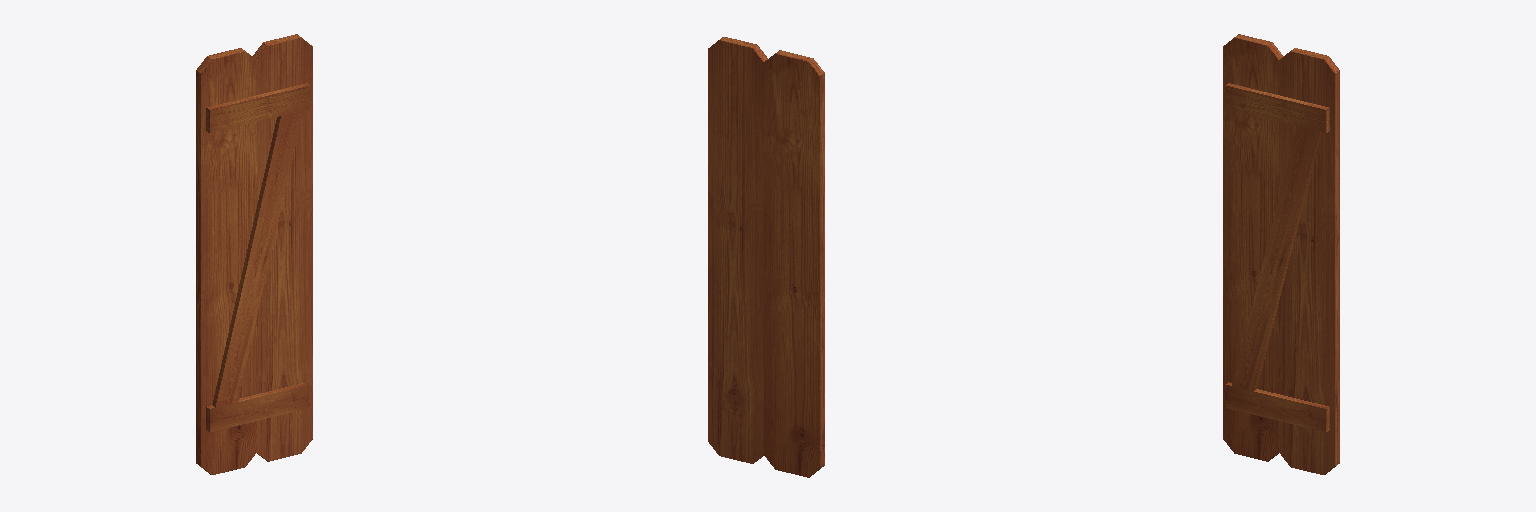
3 renders of one model, left to right at view 1: azimuth 30°, elevation 25°; view 2: azimuth 150°, elevation 25°; view 3: azimuth 330°, elevation 25°, orthographic.
Parts seen in each view (by area): view 1: shutter001, shutter, shutter004, shutter003, shutter002; view 2: shutter001, shutter; view 3: shutter, shutter001, shutter004, shutter003, shutter002.
Boxes of the visible parts, box(x1,y1,x2,y2) form: shutter001: box(196, 48, 256, 474); shutter: box(252, 34, 312, 461); shutter004: box(212, 111, 302, 407); shutter003: box(206, 83, 309, 132); shutter002: box(206, 382, 309, 431); shutter001: box(764, 50, 824, 477); shutter: box(708, 37, 767, 463); shutter: box(1279, 48, 1339, 474); shutter001: box(1223, 34, 1283, 461); shutter004: box(1232, 126, 1321, 390); shutter003: box(1226, 83, 1329, 132); shutter002: box(1226, 382, 1329, 431).
Bounding box in the file's own units: 10 × 35.5 × 1.25.
Materials: 5 (5 with a texture image).